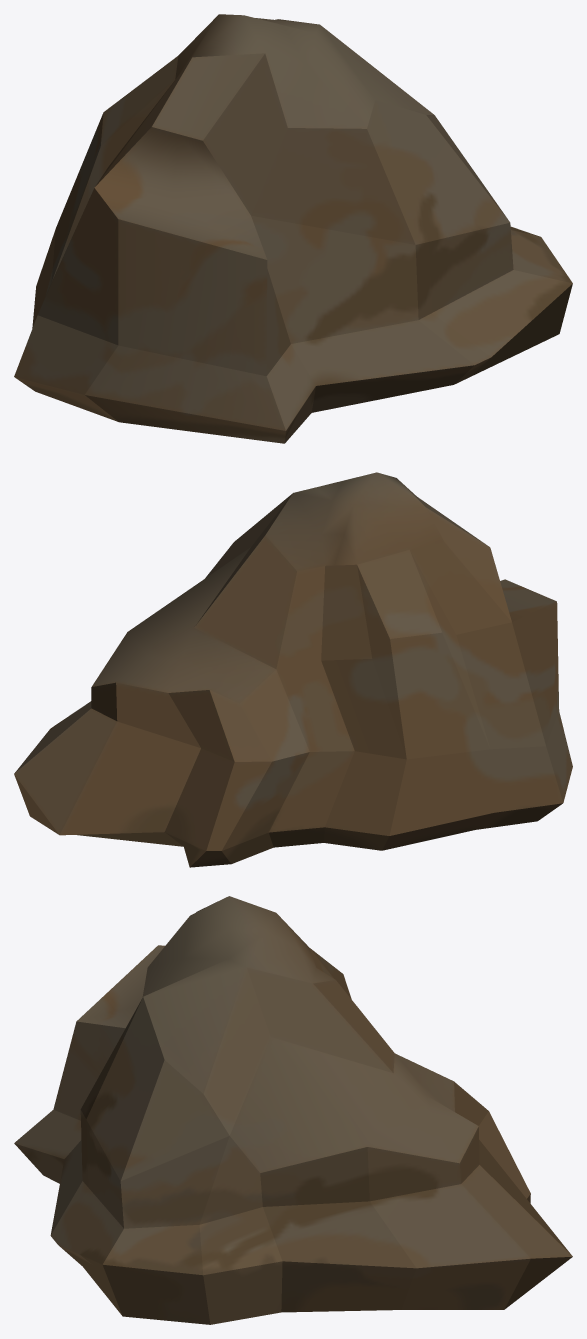
File: Rock02_Model.fbx
3 views of the same model, one above another, from view 1: azimuth 30°, elevation 25°; view 2: azimuth 150°, elevation 25°; view 3: azimuth 270°, elevation 25° (orthographic). The views are drawn at different scales.
Visible parts, largest first — view 1: pPlane2; view 2: pPlane2; view 3: pPlane2.
Boxes of the visible parts, left/top/right/bottom form: pPlane2: left=14, top=14, right=572, bottom=443; pPlane2: left=14, top=472, right=572, bottom=867; pPlane2: left=14, top=896, right=572, bottom=1324.
Bounding box in the file's own units: 4.4 × 2.82 × 4.66.
